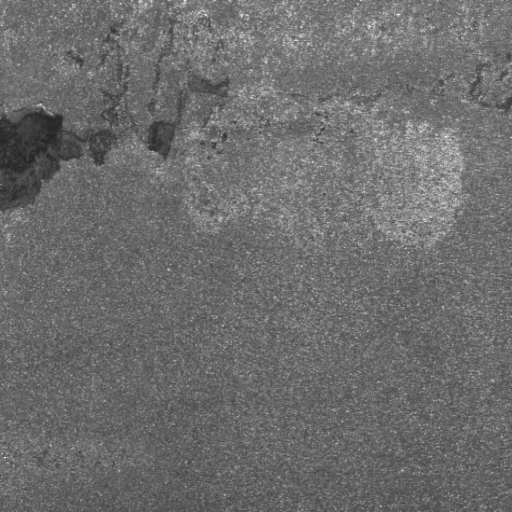aokeng: (1, 103, 120, 216), (144, 115, 182, 163)
